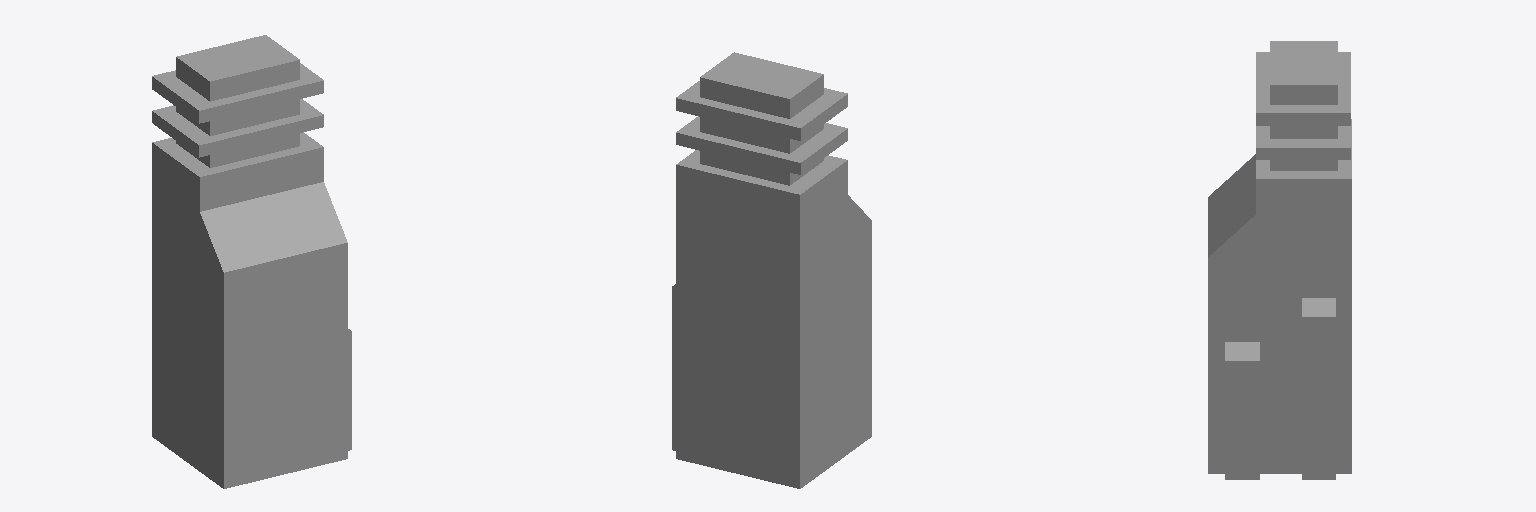
The model's file is Factory.obj.
3 renders of one model, left to right at view 1: azimuth 30°, elevation 25°; view 2: azimuth 150°, elevation 25°; view 3: azimuth 270°, elevation 25°, orthographic.
Visible parts, largest first — view 1: pCube2; view 2: pCube2; view 3: pCube2.
Boxes of the visible parts, x1,y1,x2,y2 form: pCube2: [152, 35, 351, 488]; pCube2: [672, 52, 871, 488]; pCube2: [1208, 41, 1351, 479].
Size of the model in its own units: 16.55 by 44.01 by 15.